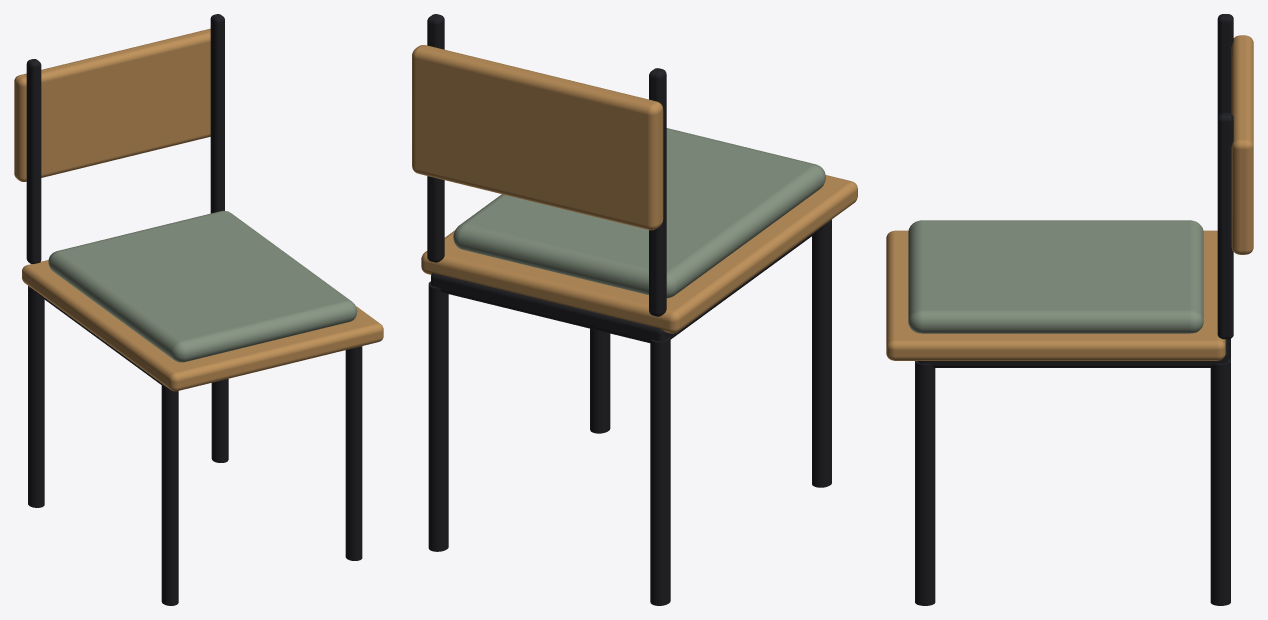
Rendered from dining_chair_02.gltf.
3 renders of one model, left to right at view 1: azimuth 30°, elevation 25°; view 2: azimuth 150°, elevation 25°; view 3: azimuth 270°, elevation 25°, orthographic. The views are drawn at different scales.
Visible parts, largest first — view 1: dining_chair_02; view 2: dining_chair_02; view 3: dining_chair_02.
Boxes of the visible parts, x1,y1,x2,y2 form: dining_chair_02: (14, 14, 383, 605); dining_chair_02: (412, 14, 857, 605); dining_chair_02: (886, 14, 1253, 605).
Bounding box in the file's own units: 0.43 × 0.85 × 0.58.
